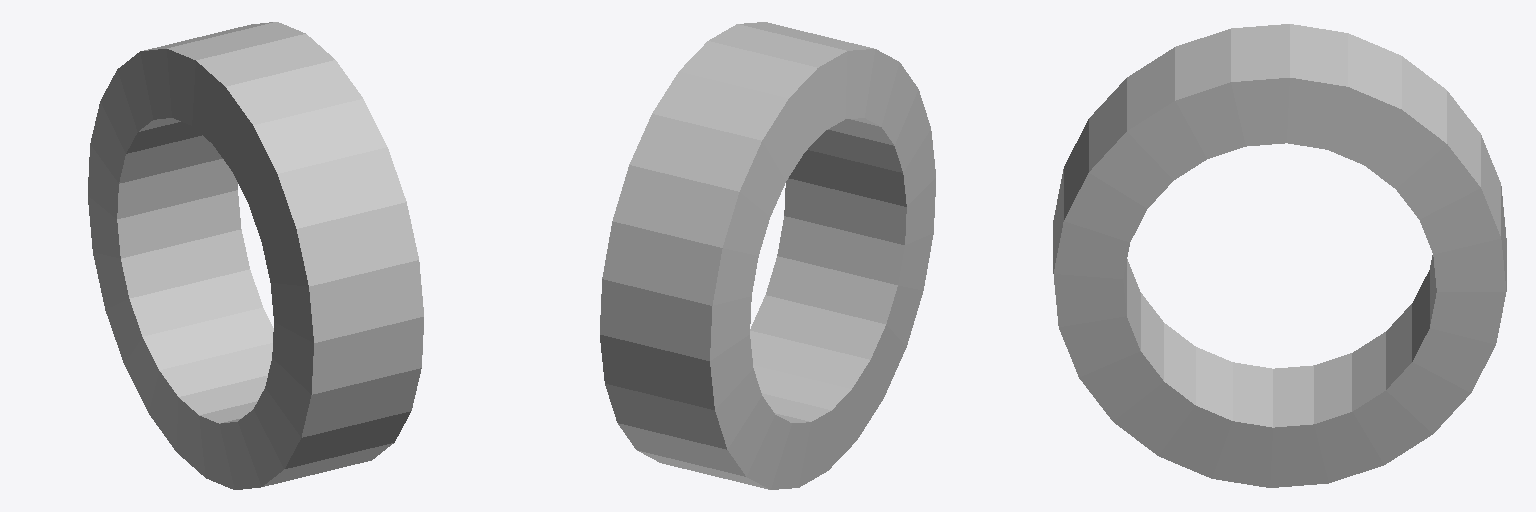
The model's file is original-57.obj.
3 renders of one model, left to right at view 1: azimuth 30°, elevation 25°; view 2: azimuth 150°, elevation 25°; view 3: azimuth 270°, elevation 25°, orthographic.
Visible parts, largest first — view 1: __3_1/__3/mesh62/mesh62-geometry#mesh62-geometry; view 2: __3_1/__3/mesh62/mesh62-geometry#mesh62-geometry; view 3: __3_1/__3/mesh62/mesh62-geometry#mesh62-geometry.
Boxes of the visible parts, box(x1,y1,x2,y2) form: __3_1/__3/mesh62/mesh62-geometry#mesh62-geometry: box(88, 22, 423, 489); __3_1/__3/mesh62/mesh62-geometry#mesh62-geometry: box(600, 22, 935, 489); __3_1/__3/mesh62/mesh62-geometry#mesh62-geometry: box(1053, 24, 1506, 487).
Bounding box in the file's own units: 0.0466 × 0.1513 × 0.1513.